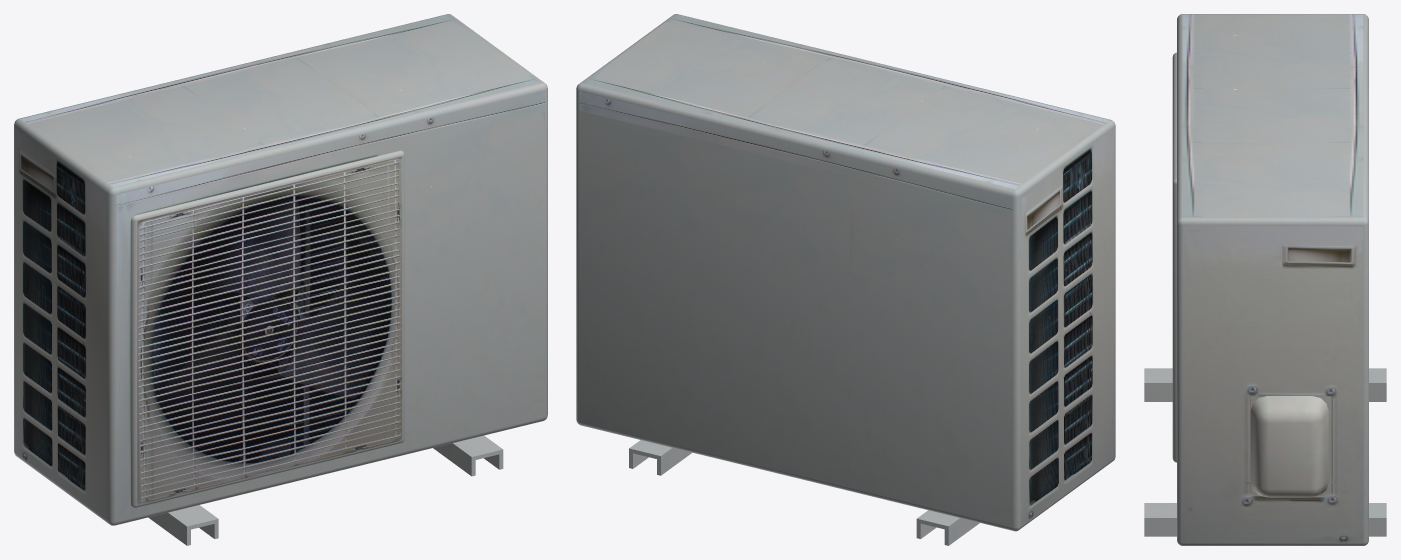
The model's file is Conditioner01.FBX.
The picture shows the model from 3 angles, left to right: view 1: azimuth 30°, elevation 25°; view 2: azimuth 150°, elevation 25°; view 3: azimuth 270°, elevation 25°; orthographic projection. The views are drawn at different scales.
Visible parts, largest first — view 1: conditioner; view 2: conditioner; view 3: conditioner.
Boxes of the visible parts, x1,y1,x2,y2 form: conditioner: (14, 14, 547, 545); conditioner: (576, 14, 1115, 545); conditioner: (1144, 14, 1386, 545).
Bounding box in the file's own units: 36.05 × 26.65 × 16.87.
